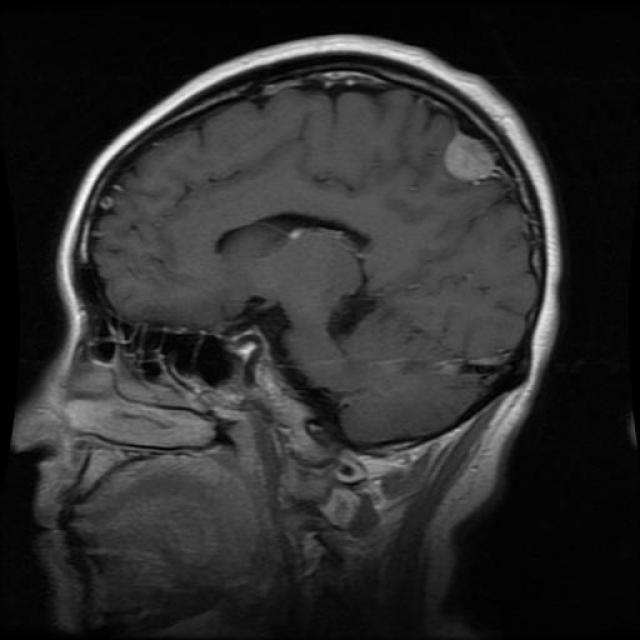meningioma: (444, 134, 494, 181)
